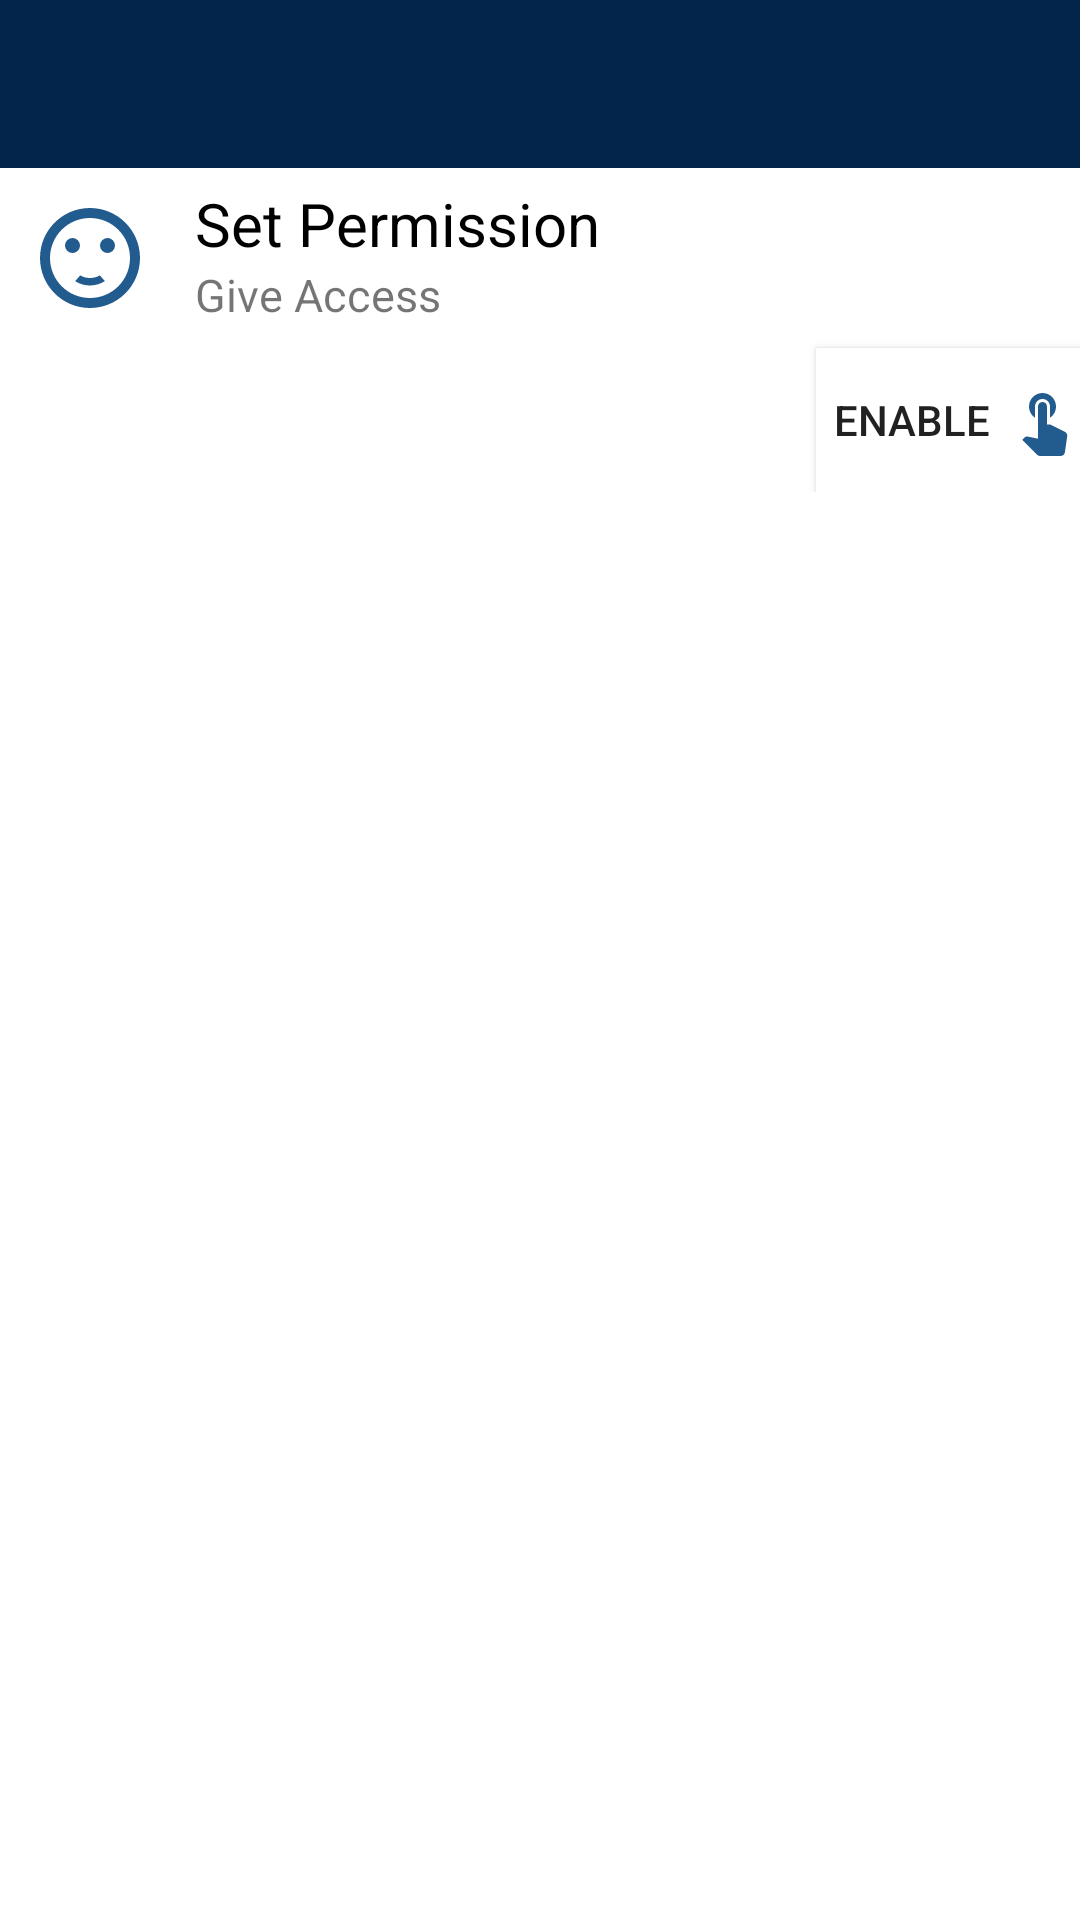

Icons on this 1080 x 1920 Android screen, each with its box as (x1, y1, x2, y2):
sentiment satisfied: (40, 208, 140, 308)
